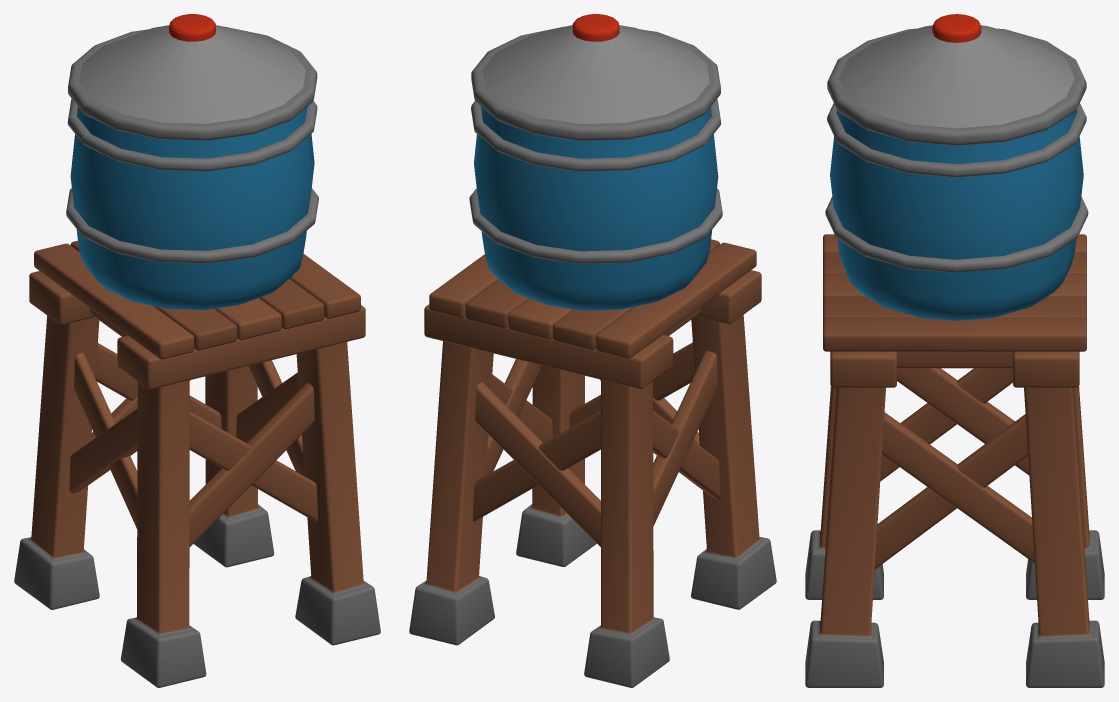
The model's file is Watter_Tank.fbx.
3 renders of one model, left to right at view 1: azimuth 30°, elevation 25°; view 2: azimuth 150°, elevation 25°; view 3: azimuth 270°, elevation 25°, orthographic. The views are drawn at different scales.
Visible parts, largest first — view 1: Cube.012; view 2: Cube.012; view 3: Cube.012.
Boxes of the visible parts, x1,y1,x2,y2 form: Cube.012: [14, 14, 380, 687]; Cube.012: [409, 14, 776, 687]; Cube.012: [805, 14, 1104, 687].
Size of the model in its own units: 6.6 by 7.28 by 16.32.
